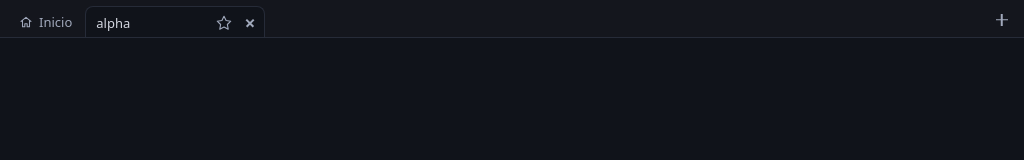
TabBar › opening a project › shows the shortcut that opens a folder, as the platform writes it
What coordinates should you click on to do the following:
click the button named "Abrir un proyecto"
I would click on:
 (1002, 20)
Its box is [990,8,1014,32].
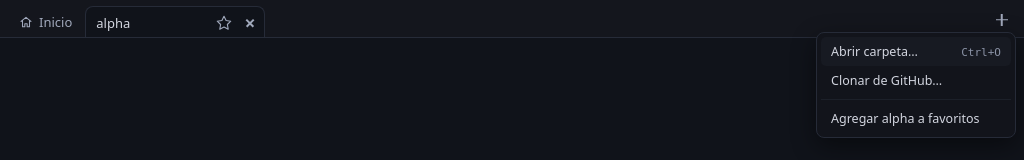
Expected: the text "Ctrl+O" is shown, [961,46,1001,58]
